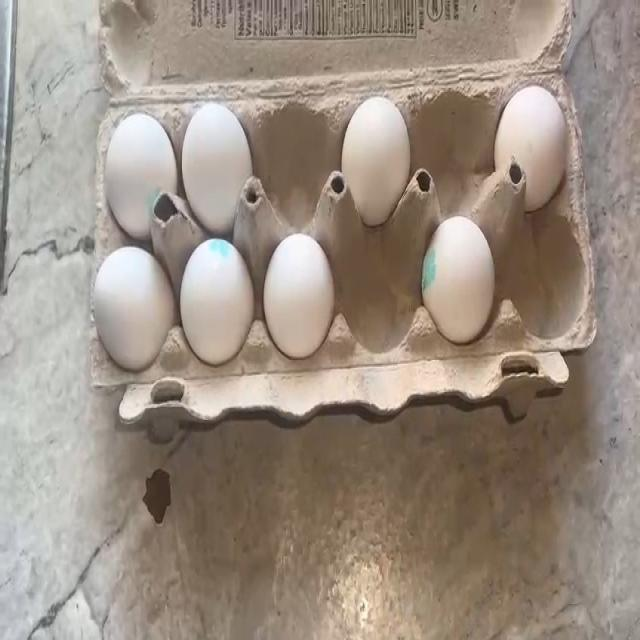Egg: (496, 82, 561, 186), (426, 230, 489, 335), (106, 105, 166, 214), (90, 264, 160, 353), (262, 243, 327, 335), (188, 102, 239, 210), (350, 102, 404, 200), (182, 255, 240, 342)
